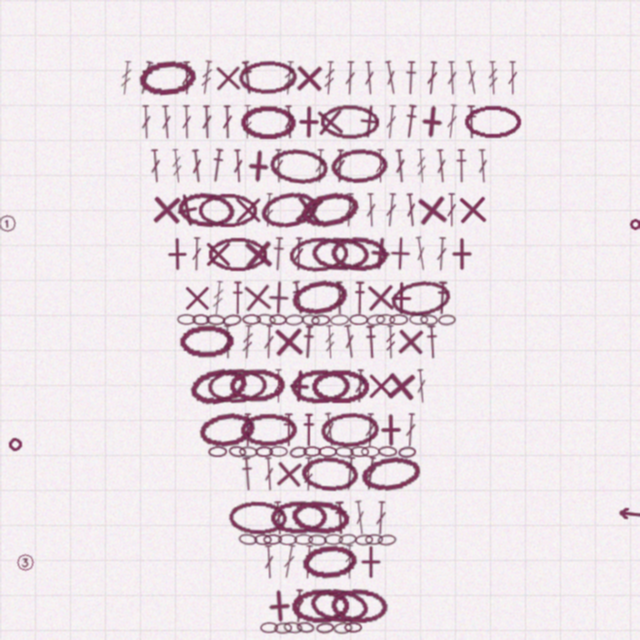chain: (298, 188, 361, 232), (187, 364, 249, 408), (389, 277, 453, 319), (289, 276, 351, 319), (258, 188, 320, 231), (308, 585, 371, 627), (359, 453, 422, 495), (197, 409, 258, 451), (268, 146, 329, 186), (176, 190, 237, 229), (288, 235, 350, 273), (290, 498, 350, 537), (137, 58, 197, 97), (207, 367, 268, 404), (300, 455, 360, 492), (301, 543, 359, 581), (330, 587, 389, 624), (320, 411, 379, 448), (330, 235, 389, 272), (330, 147, 389, 184), (290, 368, 350, 404), (228, 500, 287, 536), (320, 104, 380, 139), (311, 236, 369, 272), (238, 60, 297, 95), (208, 237, 268, 271), (198, 193, 258, 227), (291, 588, 349, 623), (270, 500, 328, 535), (229, 368, 286, 403), (240, 413, 298, 447), (311, 369, 369, 403), (179, 324, 235, 359), (240, 105, 297, 139), (464, 105, 521, 139), (222, 313, 242, 327), (366, 313, 386, 327), (289, 445, 308, 459), (283, 621, 303, 634), (238, 533, 258, 546), (256, 313, 276, 326), (296, 621, 315, 634), (338, 533, 357, 546), (228, 445, 247, 458), (333, 622, 353, 634), (377, 534, 397, 546), (308, 534, 327, 546), (239, 446, 258, 458), (335, 446, 354, 458), (206, 314, 225, 326), (285, 314, 304, 326), (301, 314, 320, 326), (311, 314, 330, 326), (330, 314, 349, 326), (274, 622, 292, 634), (316, 622, 334, 634), (355, 534, 373, 546), (398, 446, 416, 458), (420, 314, 438, 326), (438, 314, 456, 326), (263, 534, 282, 545), (278, 534, 297, 545), (294, 534, 313, 545), (324, 534, 343, 545), (208, 446, 227, 457), (269, 446, 288, 457), (318, 446, 337, 457), (350, 446, 369, 457), (361, 446, 380, 457), (378, 446, 397, 457), (177, 314, 196, 325), (242, 314, 261, 325), (349, 314, 368, 325), (376, 314, 395, 325), (389, 314, 408, 325), (409, 314, 428, 325), (260, 622, 278, 633), (344, 622, 362, 633), (254, 534, 272, 545), (365, 534, 383, 545), (255, 446, 273, 457), (303, 446, 321, 457), (192, 314, 210, 325), (269, 314, 287, 325)
double: (281, 544, 297, 579), (413, 236, 429, 271), (383, 60, 399, 95), (464, 60, 480, 95), (363, 456, 378, 491), (342, 324, 357, 359), (353, 500, 367, 535), (323, 412, 337, 447), (445, 104, 459, 139), (384, 193, 398, 227), (404, 193, 418, 227), (190, 149, 204, 183), (384, 105, 398, 139), (425, 61, 439, 95), (302, 545, 315, 579), (272, 501, 285, 535), (404, 413, 417, 447), (415, 369, 428, 403), (435, 237, 448, 271), (343, 193, 356, 227), (149, 149, 162, 183), (394, 149, 407, 183), (435, 149, 448, 183), (160, 105, 173, 139), (363, 61, 376, 95), (293, 589, 305, 623), (263, 545, 275, 579), (375, 501, 387, 535), (263, 457, 275, 491), (364, 413, 376, 447), (354, 369, 366, 403), (263, 325, 275, 359), (365, 193, 377, 227), (232, 149, 244, 183), (314, 149, 326, 183), (334, 149, 346, 183), (477, 149, 489, 183), (140, 105, 152, 139), (201, 105, 213, 139), (283, 105, 295, 139), (344, 61, 356, 95), (446, 61, 458, 95), (242, 413, 253, 447), (273, 369, 284, 403), (222, 325, 233, 359), (334, 281, 345, 315), (191, 237, 202, 271), (293, 237, 304, 271), (446, 193, 457, 227), (273, 149, 284, 183), (375, 149, 386, 183), (181, 105, 192, 139), (222, 105, 233, 139), (181, 61, 192, 95), (507, 61, 518, 95)
half_double: (136, 60, 156, 96), (290, 280, 307, 315), (209, 148, 226, 183), (402, 104, 419, 139), (239, 60, 256, 95), (342, 456, 358, 491), (240, 457, 255, 491), (301, 325, 316, 359), (271, 237, 286, 271), (333, 501, 347, 535), (364, 325, 378, 359), (425, 325, 439, 359), (435, 281, 449, 315), (404, 61, 418, 95), (282, 413, 295, 447), (302, 413, 315, 447), (231, 281, 244, 315), (353, 281, 366, 315), (455, 149, 468, 183), (465, 105, 478, 139)
noise: (15, 552, 36, 573), (0, 213, 17, 233), (616, 507, 640, 521), (7, 436, 24, 453), (629, 218, 640, 230)
single: (167, 190, 207, 230), (290, 191, 328, 229), (413, 191, 451, 229), (239, 279, 276, 316), (362, 235, 399, 272), (351, 103, 388, 140), (413, 103, 450, 140), (261, 588, 297, 624), (271, 456, 307, 492), (281, 368, 317, 404), (383, 368, 419, 404), (240, 236, 276, 272), (240, 148, 276, 184), (312, 104, 348, 140), (271, 324, 306, 359), (393, 324, 428, 359), (261, 280, 296, 315), (363, 280, 398, 315), (383, 236, 418, 271), (149, 192, 184, 227), (455, 192, 490, 227), (354, 545, 388, 579), (374, 413, 408, 447), (364, 369, 398, 403), (180, 281, 214, 315), (384, 281, 418, 315), (160, 237, 194, 271), (201, 237, 235, 271), (445, 237, 479, 271), (231, 193, 265, 227), (292, 105, 326, 139), (211, 61, 245, 95), (292, 61, 326, 95)
treble: (199, 60, 214, 95), (211, 281, 225, 315), (170, 149, 184, 183), (119, 61, 133, 95), (282, 61, 296, 95), (241, 325, 254, 359), (262, 193, 275, 227), (415, 149, 428, 183), (323, 61, 336, 95), (324, 325, 336, 359), (487, 61, 499, 95), (344, 545, 355, 579), (303, 457, 314, 491), (385, 325, 396, 359), (242, 105, 253, 139)
